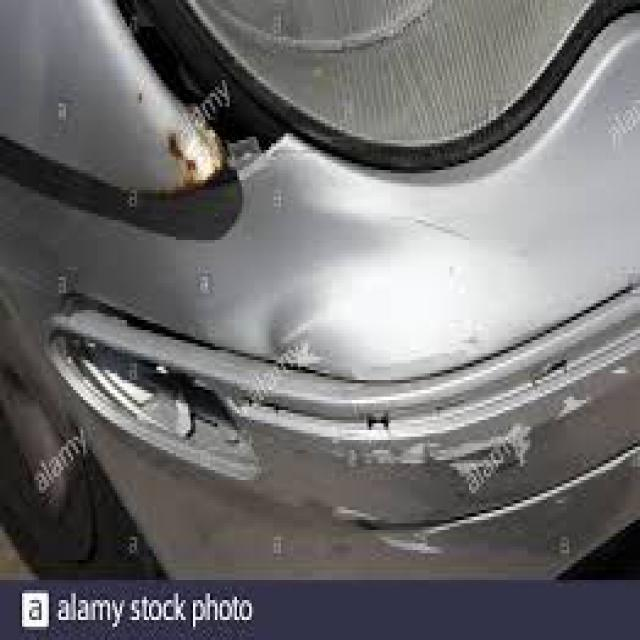front-bumper-dent: (0, 143, 638, 587)
